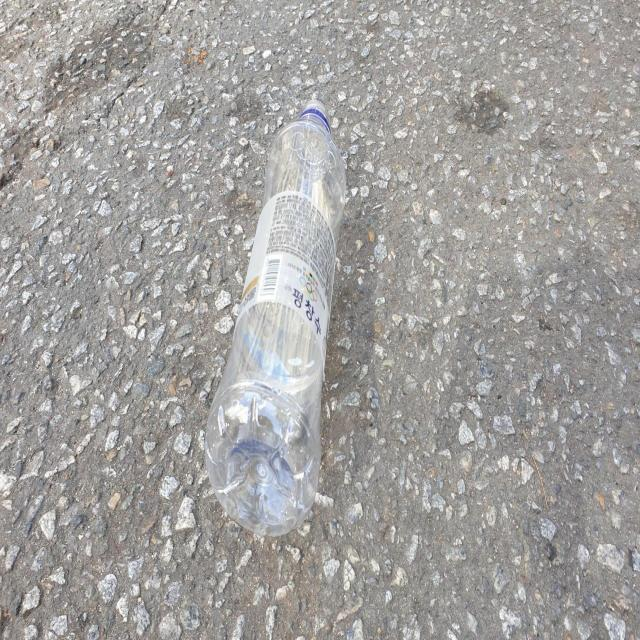plastic: (205, 101, 346, 535)
